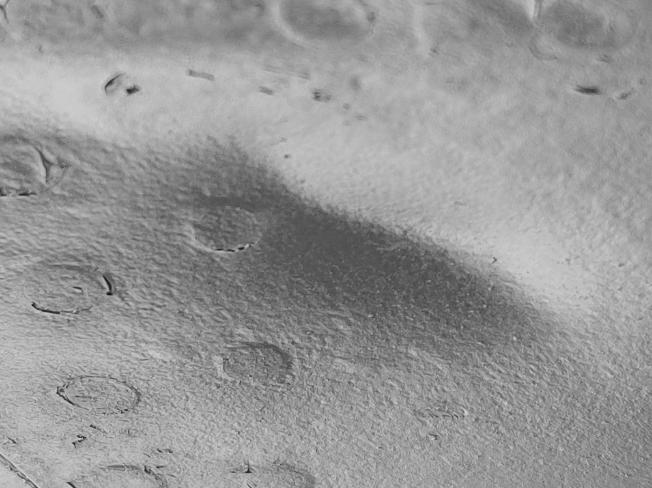dent: (1, 1, 652, 488)
